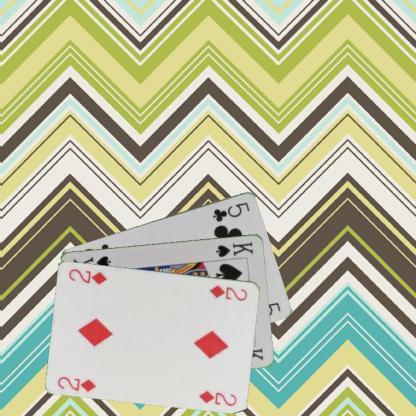2d: (53, 374, 98, 393), (207, 282, 249, 302)
5c: (210, 199, 250, 222)
Ks: (213, 239, 255, 258)
